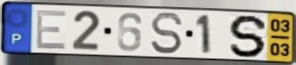1: (194, 13, 213, 56)
2: (71, 9, 104, 53)
6: (115, 12, 143, 54)
E: (34, 9, 68, 51)
S: (227, 13, 271, 59), (149, 11, 185, 56)
